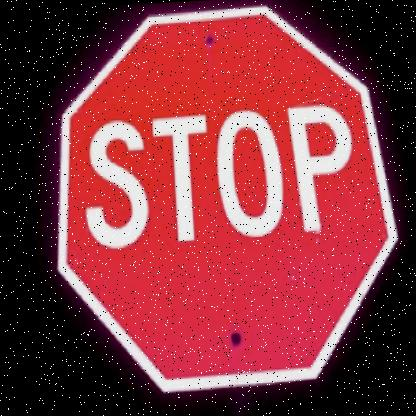stop: (41, 0, 407, 393)
